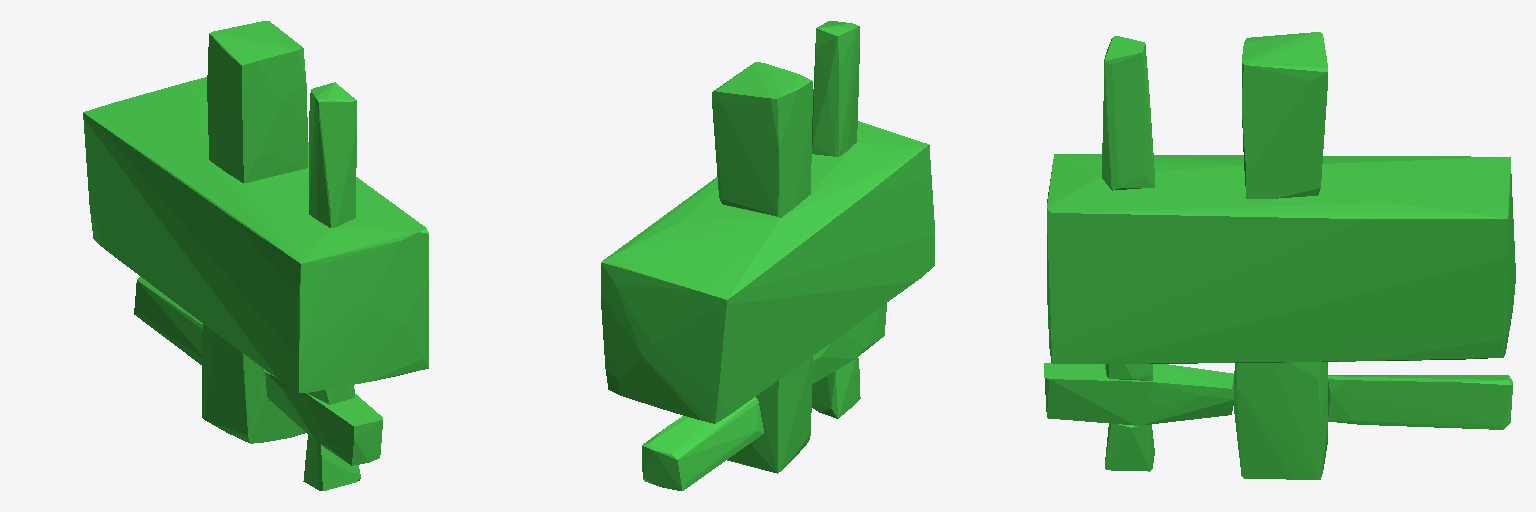
The robot description file, URDF, robot "blob631":
<robot name="blob631">
  <link name="random_obj_631">
    <contact>
      <lateral_friction value="1.0"/>
      <rolling_friction value="0.0"/>
      <inertia_scaling value="3.0"/>
      <contact_cfm value="0.0"/>
      <contact_erp value="1.0"/>
    </contact>
    <inertial>
      <origin rpy="0 0 0" xyz="0 0 0"/>
      <mass value="0.1"/>
      <inertia ixx="1" ixy="0" ixz="0" iyy="1" iyz="0" izz="0"/>
    </inertial>
    <visual>
      <origin rpy="0 0 0" xyz="0 0 0"/>
      <geometry>
        <mesh filename="631.obj" scale="0.015 0.015 0.015"/>
      </geometry>
      <material name="blockmat">
        <color rgba="0.31 0.83 0.33 1"/>
      </material>
    </visual>
    <collision>
      <origin rpy="0 0 0" xyz="0 0 0"/>
      <geometry>
        <mesh filename="631.obj" scale="0.015 0.015 0.015"/>
      </geometry>
    </collision>
  </link>
</robot>

--- Render facts (derived) ---
3 views of the same robot in one strip: view 1: azimuth 30°, elevation 25°; view 2: azimuth 150°, elevation 25°; view 3: azimuth 270°, elevation 25° (orthographic).
Model blob631 with 1 links and 0 joints (none), rooted at random_obj_631, posed all joints at 0.
Visible links, largest first — view 1: random_obj_631; view 2: random_obj_631; view 3: random_obj_631.
Boxes of the visible links, x1=… form: random_obj_631: x1=83, y1=21, x2=428, y2=490; random_obj_631: x1=601, y1=21, x2=934, y2=490; random_obj_631: x1=1044, y1=32, x2=1515, y2=479.
Size in the robot's own frame: 0.0323 by 0.093 by 0.092 metres.
1 mesh visuals loaded from 1 distinct referenced files (1 OBJ).